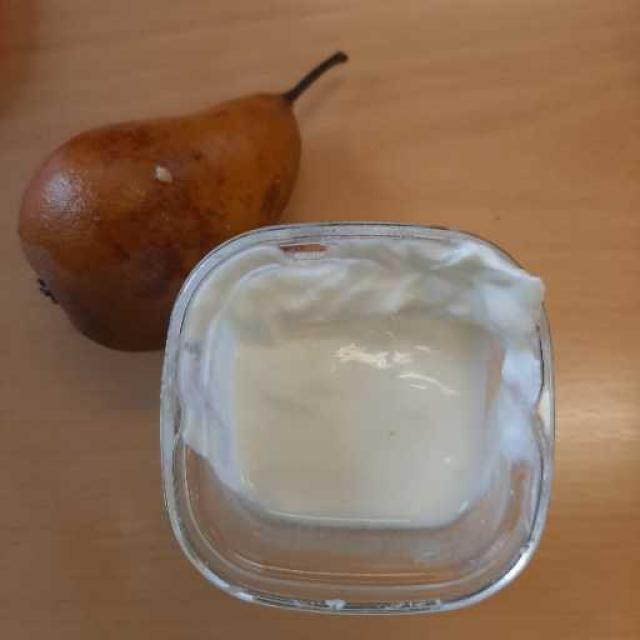pear: (36, 94, 297, 346)
